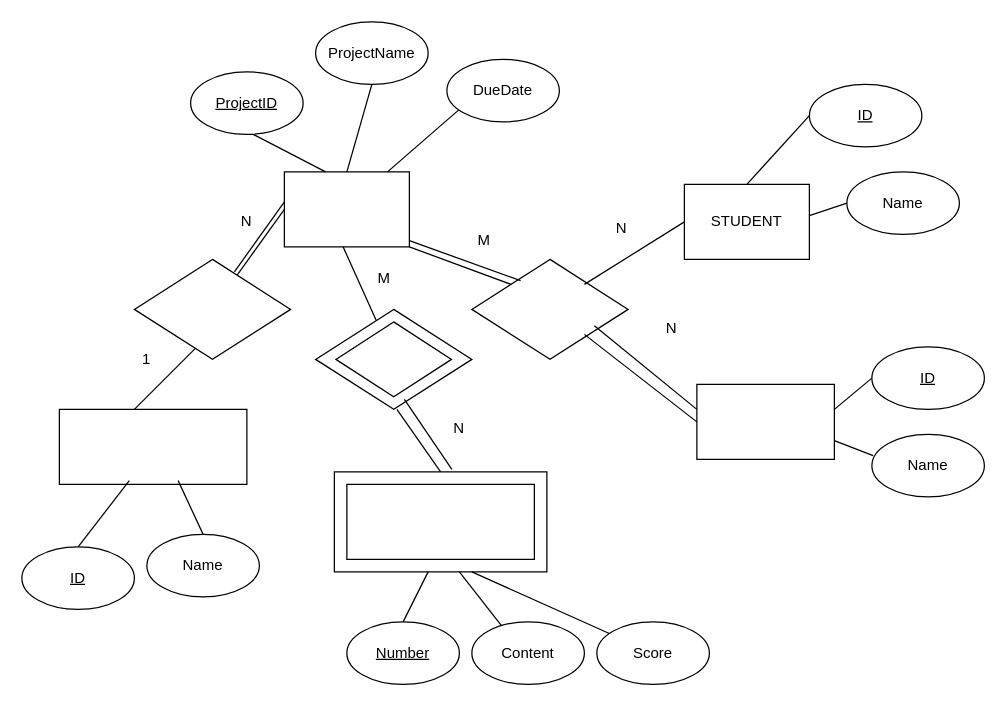
This 1006x706 diagram has some shape labels left out. Here are the shapes that lost their labels. From the top down, the box of each, then its label:
(283, 171, 409, 247): PROJECT
(133, 258, 291, 359): MANAGE
(471, 258, 628, 359): Performs
(335, 321, 452, 397): HAS
(696, 383, 834, 459): SEMESTER
(58, 408, 247, 484): INSTRUCTOR
(346, 483, 534, 559): REQUIREMENT
